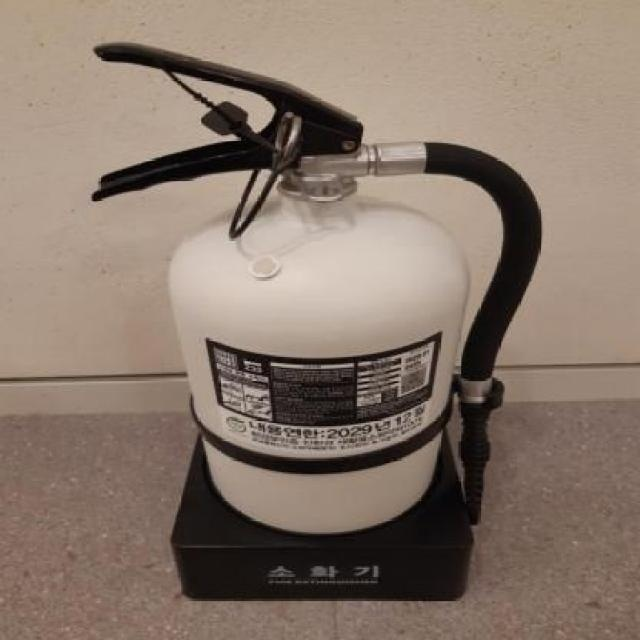fire extinguisher: (92, 40, 543, 535)
